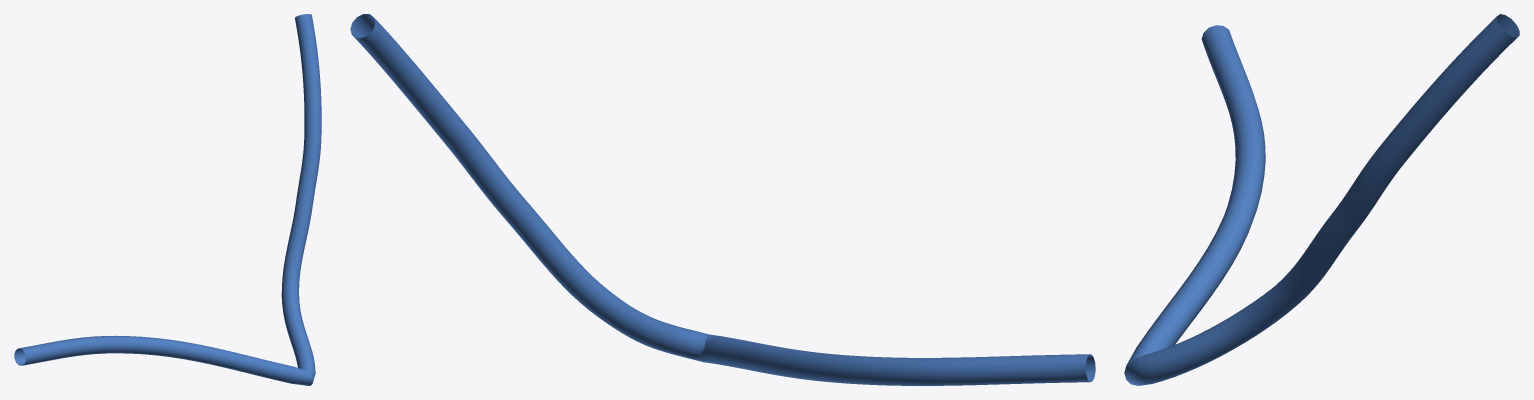
3 views of the same model, side by side, from view 1: azimuth 30°, elevation 25°; view 2: azimuth 150°, elevation 25°; view 3: azimuth 270°, elevation 25° (orthographic). The views are drawn at different scales.
Visible parts, largest first — view 1: 左侧足底静脉弓; view 2: 左侧足底静脉弓; view 3: 左侧足底静脉弓.
Boxes of the visible parts, left/top/right/bottom form: 左侧足底静脉弓: left=14, top=14, right=321, bottom=385; 左侧足底静脉弓: left=350, top=14, right=1095, bottom=385; 左侧足底静脉弓: left=1124, top=14, right=1519, bottom=385.
Bounding box in the file's own units: 0.0654 × 0.0444 × 0.0349.
